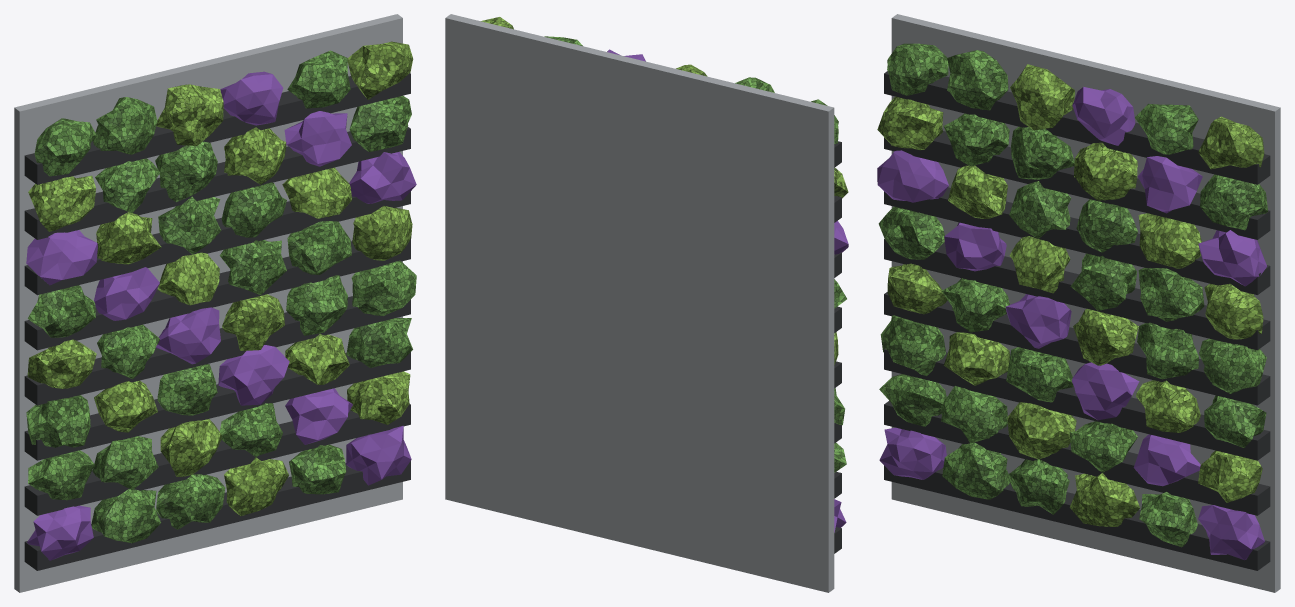
The picture shows the model from 3 angles, left to right: view 1: azimuth 30°, elevation 25°; view 2: azimuth 150°, elevation 25°; view 3: azimuth 330°, elevation 25°; orthographic projection.
Parts seen in each view (by area): view 1: baseOffset=0;depth=0.3;height=2.4;material=foliage;power=;se (×5); view 2: baseOffset=0;depth=0.3;height=2.4;material=foliage;power=;se (×5); view 3: baseOffset=0;depth=0.3;height=2.4;material=foliage;power=;se (×5).
Part boxes in pixels (x1,y1,x2,y2): baseOffset=0;depth=0.3;height=2.4;material=foliage;power=;se (×5): (14, 14, 416, 592); baseOffset=0;depth=0.3;height=2.4;material=foliage;power=;se (×5): (445, 14, 848, 592); baseOffset=0;depth=0.3;height=2.4;material=foliage;power=;se (×5): (877, 14, 1280, 592).
Bounding box in the file's own units: 2.02 × 0.2681 × 2.4.
5 materials, 2 textured.
